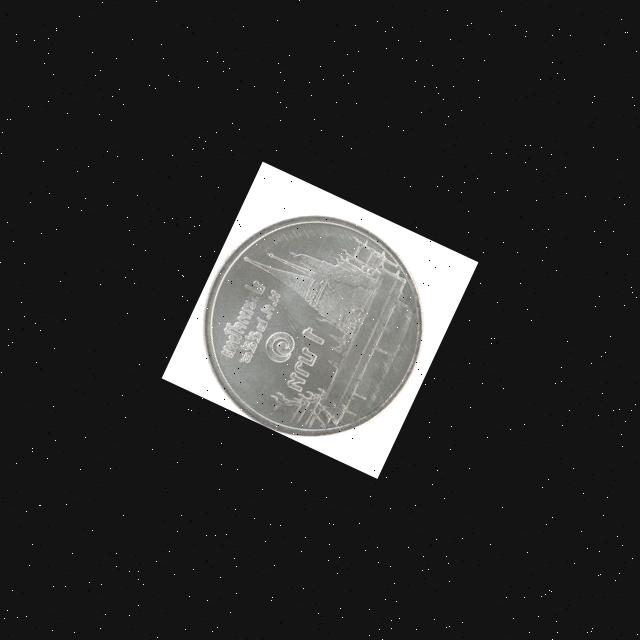1-baht: (162, 168, 469, 476)
